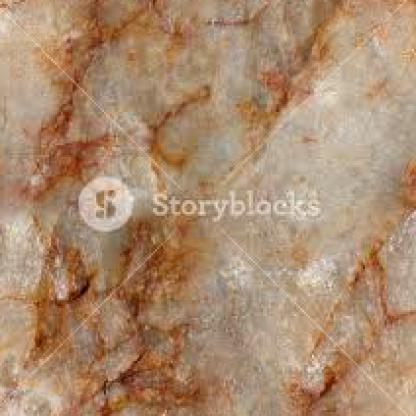Metamorphic_Marble: (0, 0, 414, 414)
